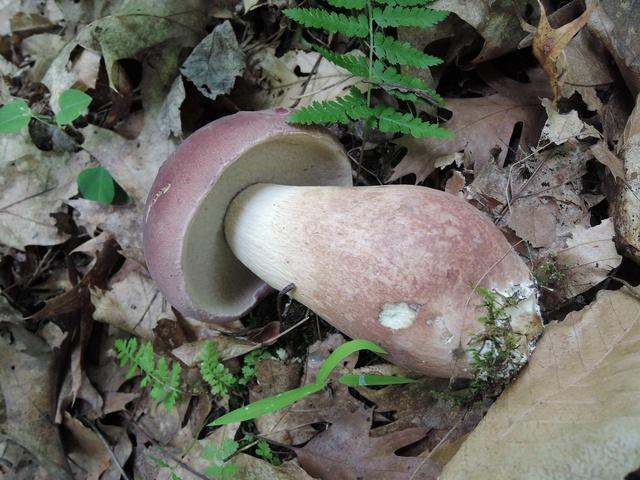poisonous_mushroom: (141, 105, 545, 384)
